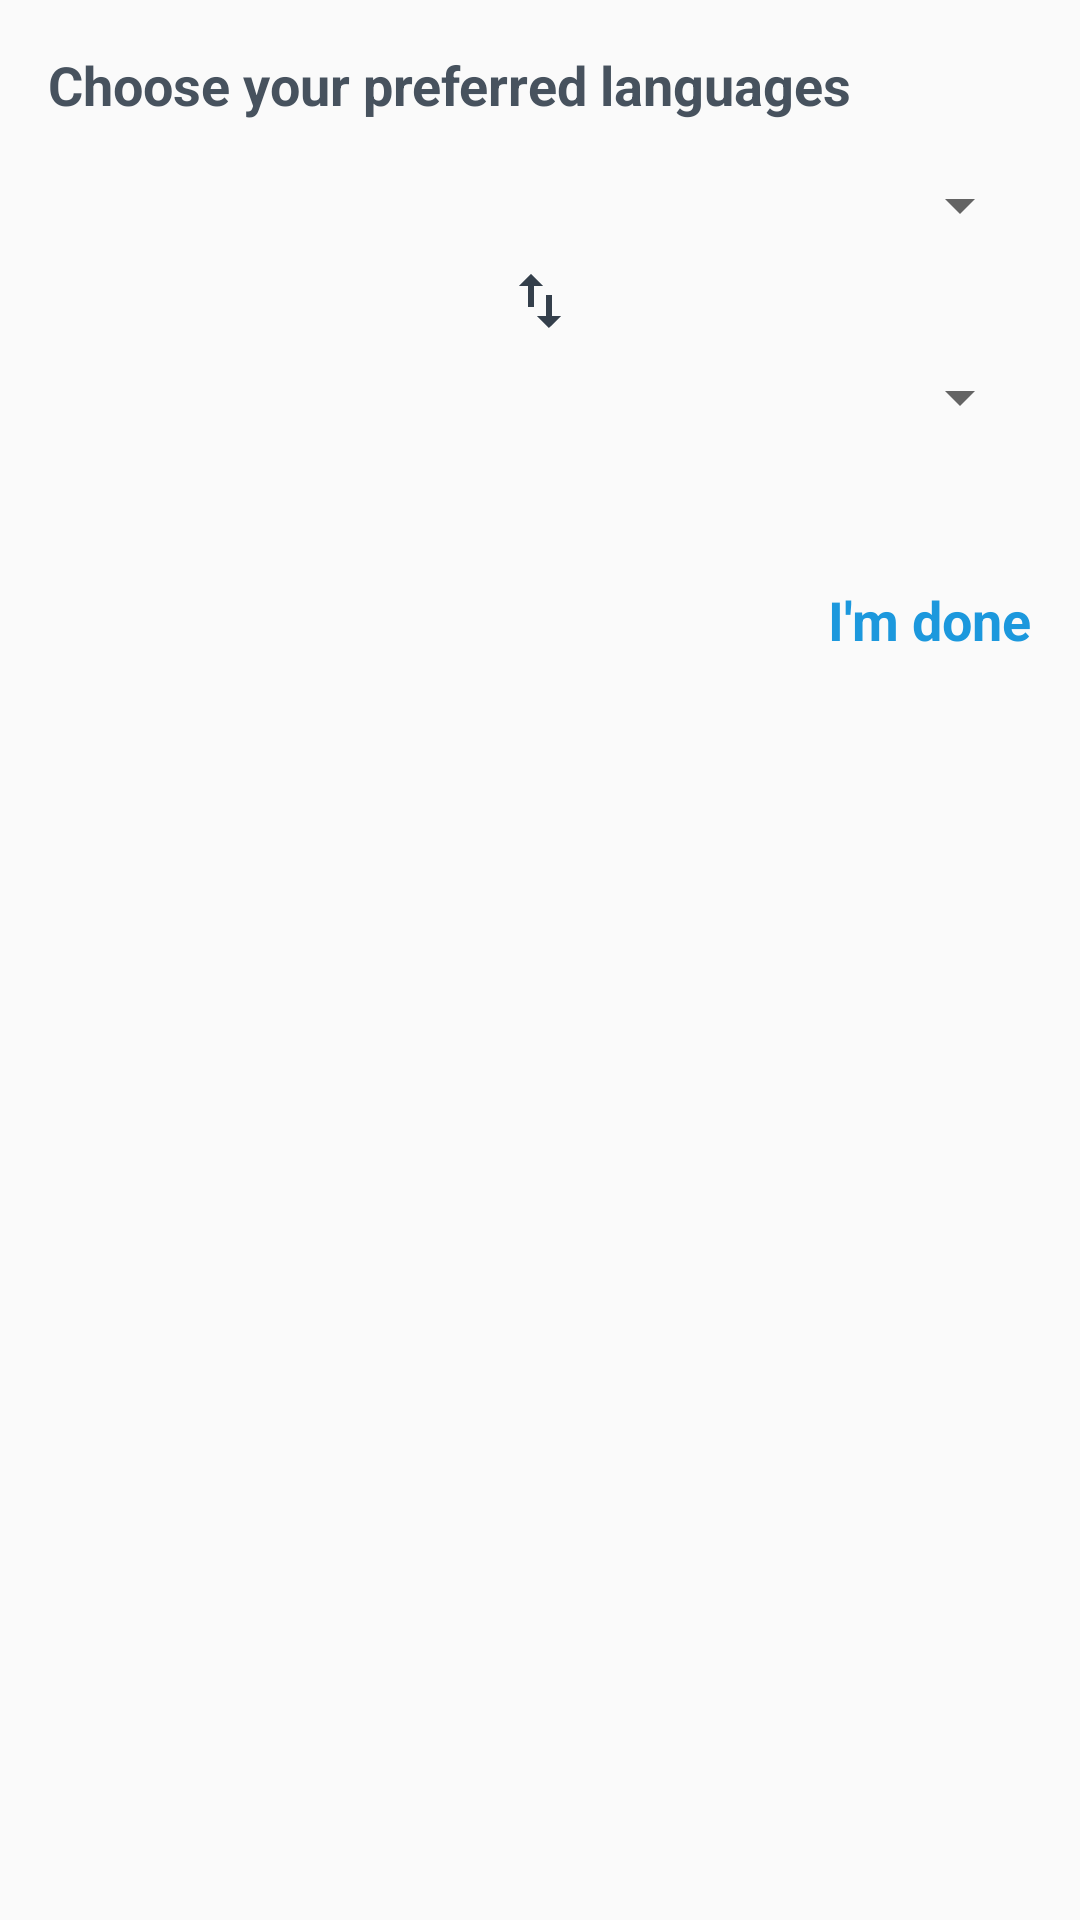

Where to tap for icons on this 1080×1920 app screen, as (x=x, y=y):
swap vert: (x=540, y=301)
